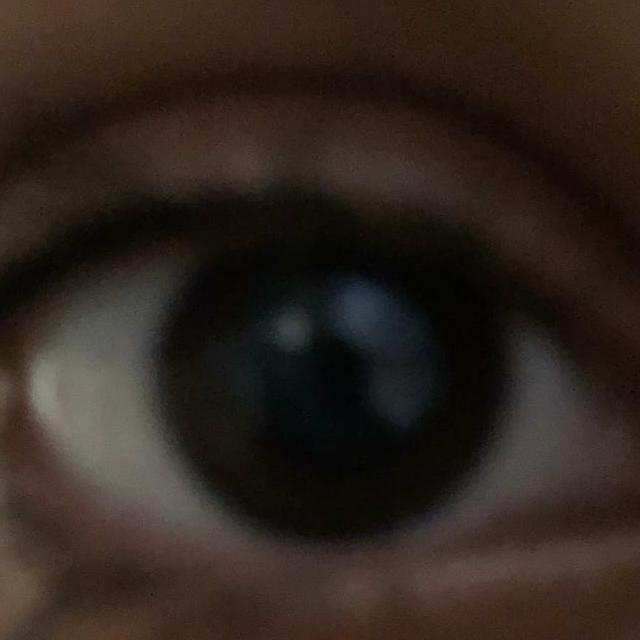eye: (3, 215, 633, 558)
iris: (152, 235, 513, 536)
